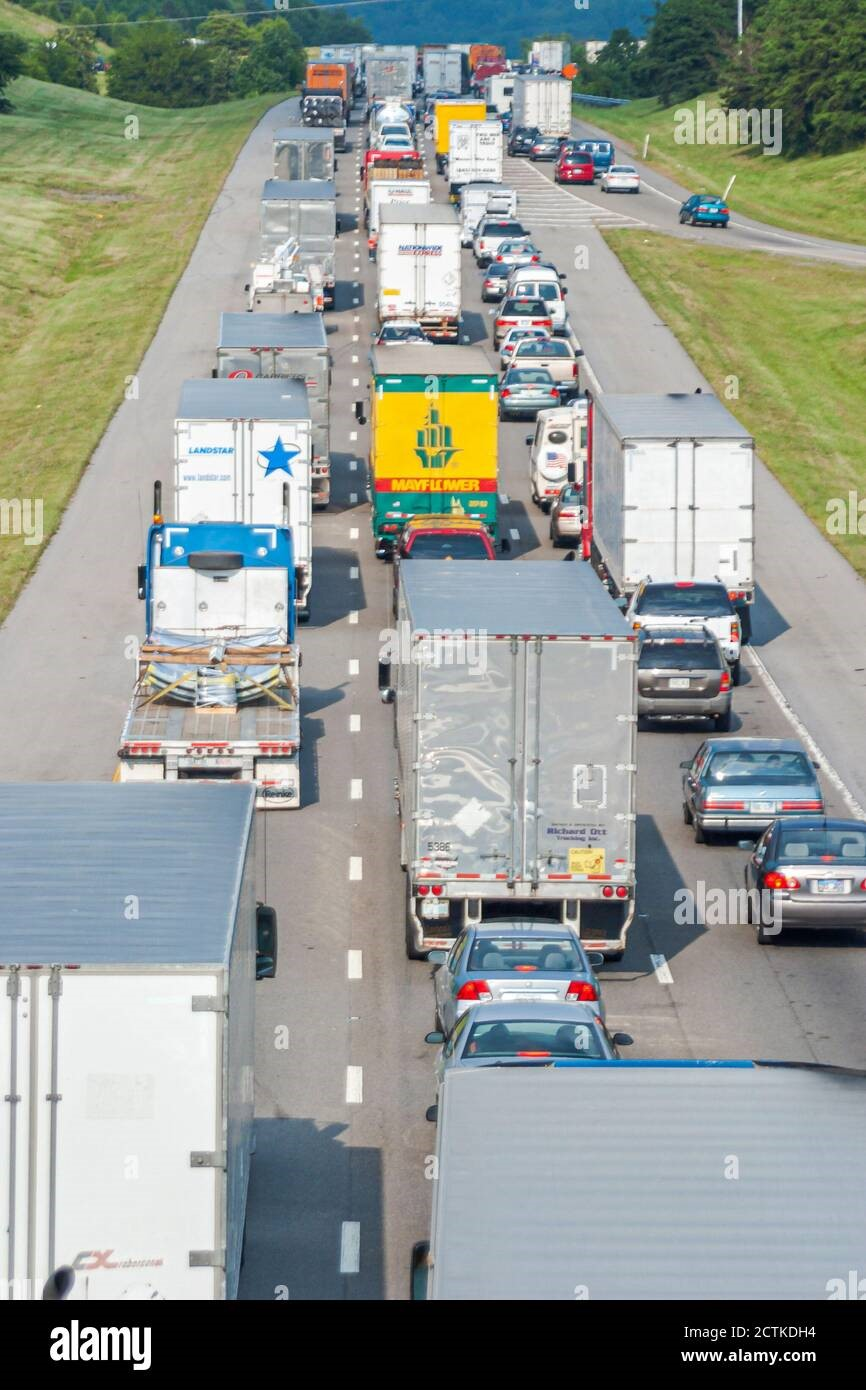HeavyVehicle: (109, 515, 318, 784), (368, 338, 498, 522)
LightVehicle: (682, 730, 822, 833), (674, 191, 736, 233)
